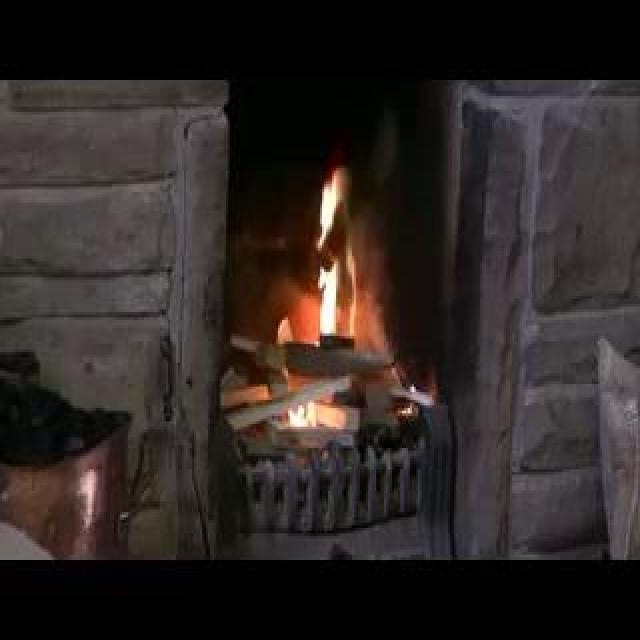Fire: (320, 178, 357, 354), (290, 407, 326, 431)
